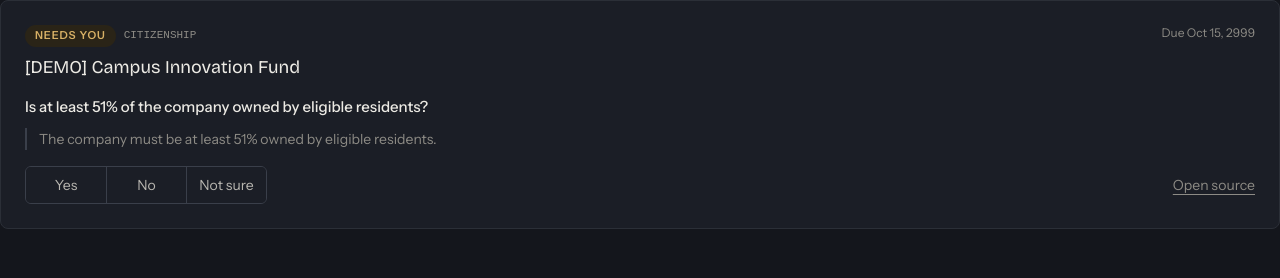
EligibilityQuestionCard › keeps the question visible when saving fails
Click the button "No" at (146, 186), box [106, 168, 186, 204]
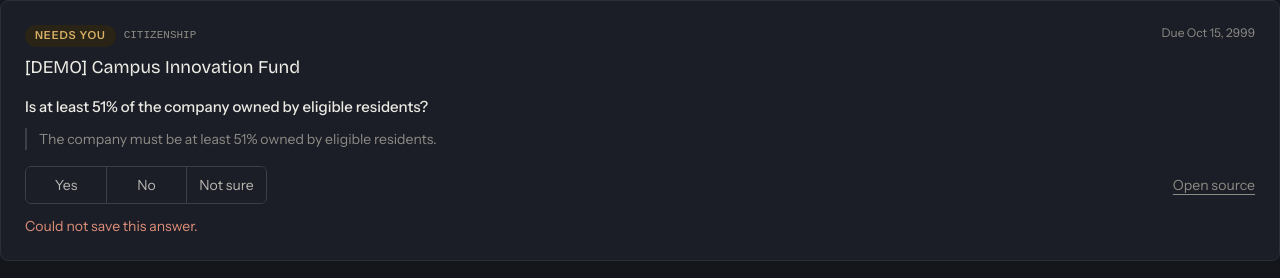
Expected: the text "Is at least 51% of the company owned by eligible residents?" is shown, [25, 97, 428, 116]
Result: the message shows "Could not save" at [25, 218, 198, 236]
